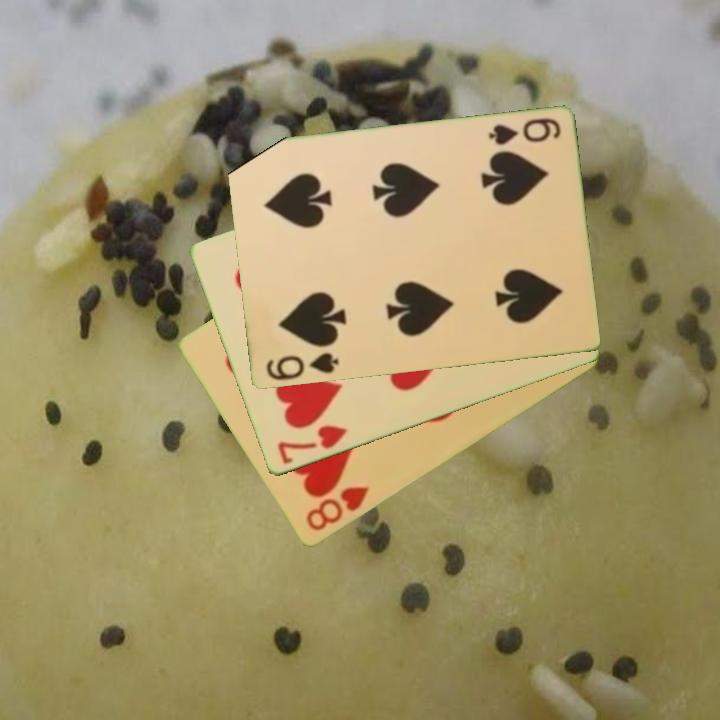6s: (262, 349, 342, 384), (484, 115, 563, 149)
7h: (274, 422, 350, 468)
8h: (302, 483, 373, 535)
